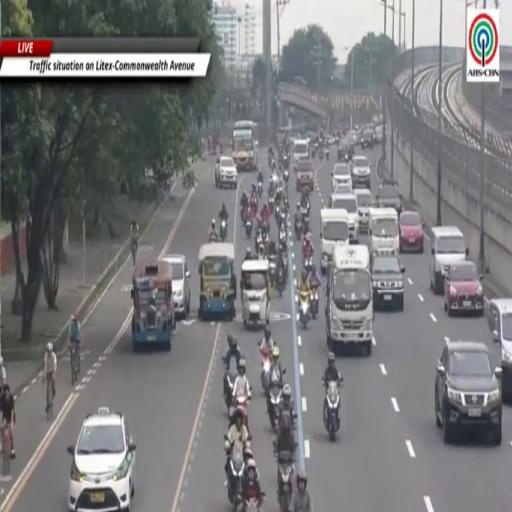car: (68, 407, 136, 511), (435, 340, 502, 444), (429, 227, 468, 294), (487, 298, 511, 402), (444, 261, 483, 316), (371, 252, 404, 311), (163, 254, 190, 318), (328, 192, 359, 244), (399, 211, 424, 253), (376, 180, 402, 215), (354, 188, 372, 233), (215, 156, 237, 187), (352, 156, 371, 189), (332, 164, 352, 190), (361, 130, 375, 149), (333, 183, 353, 194), (346, 131, 357, 145), (375, 125, 383, 142), (354, 130, 362, 146)
jeepney: (132, 260, 175, 351), (198, 243, 236, 321), (241, 260, 269, 326)
motorcycle: (227, 441, 245, 507), (323, 380, 340, 441), (277, 452, 293, 511), (223, 358, 238, 411), (268, 383, 282, 429), (234, 395, 251, 430), (261, 349, 270, 393), (299, 294, 310, 328), (279, 244, 287, 281), (237, 499, 261, 511), (310, 286, 318, 319), (277, 265, 285, 297), (268, 254, 276, 286), (220, 219, 228, 242), (277, 207, 286, 225), (303, 255, 312, 273), (245, 219, 253, 238), (295, 220, 302, 241), (301, 205, 310, 221), (251, 197, 258, 216), (257, 244, 264, 260), (268, 197, 275, 213), (283, 196, 289, 214), (303, 217, 309, 235), (240, 205, 246, 222), (279, 230, 286, 244), (283, 168, 289, 182), (258, 182, 263, 198), (284, 154, 289, 170), (276, 204, 281, 220), (337, 148, 343, 161), (270, 159, 275, 171), (326, 148, 330, 161), (319, 151, 323, 162), (312, 148, 316, 158)
truck: (325, 245, 373, 356), (321, 208, 348, 275), (369, 207, 399, 253), (233, 121, 258, 171)
